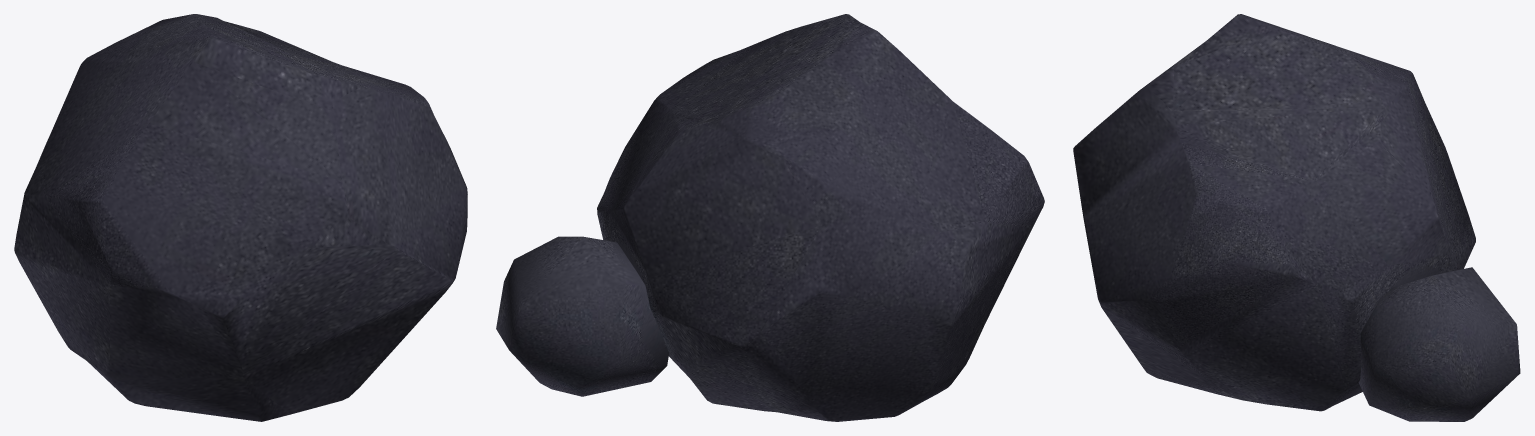
File: Ore.fbx
3 renders of one model, left to right at view 1: azimuth 30°, elevation 25°; view 2: azimuth 150°, elevation 25°; view 3: azimuth 270°, elevation 25°, orthographic. The views are drawn at different scales.
Parts seen in each view (by area): view 1: tripo_node_33d44831; view 2: tripo_node_33d44831; view 3: tripo_node_33d44831.
Boxes of the visible parts, left/top/right/bottom form: tripo_node_33d44831: left=14, top=14, right=467, bottom=421; tripo_node_33d44831: left=496, top=14, right=1044, bottom=421; tripo_node_33d44831: left=1073, top=14, right=1520, bottom=421.
Size of the model in its own units: 0.998 by 0.7988 by 0.998.
